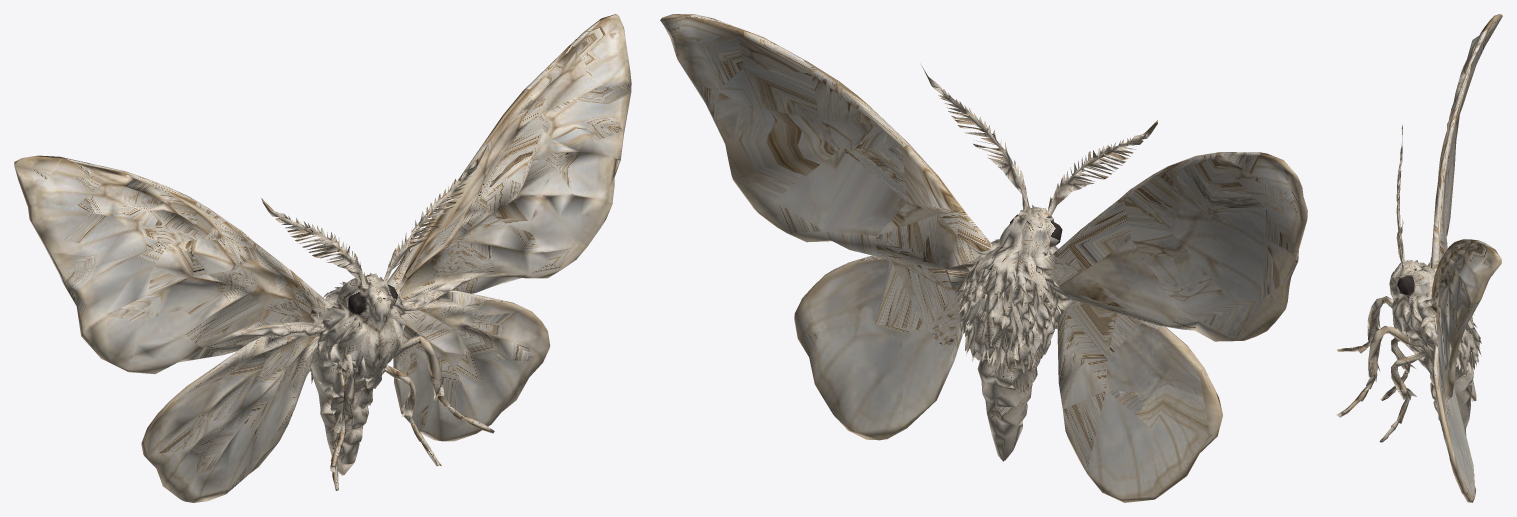
The model's file is silk-moth.glb.
3 renders of one model, left to right at view 1: azimuth 30°, elevation 25°; view 2: azimuth 150°, elevation 25°; view 3: azimuth 270°, elevation 25°, orthographic. The views are drawn at different scales.
Visible parts, largest first — view 1: silk-moth; view 2: silk-moth; view 3: silk-moth.
Part boxes in pixels (bbox=[...]): silk-moth: bbox=[14, 14, 631, 502]; silk-moth: bbox=[660, 14, 1307, 502]; silk-moth: bbox=[1336, 14, 1502, 502].
Size of the model in its own units: 1.9 by 1.12 by 0.5377.
Materials: 1 (1 with a texture image).
